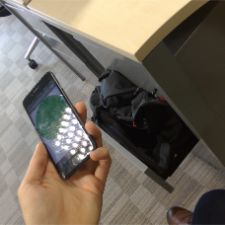focus: (29, 95, 72, 143)
